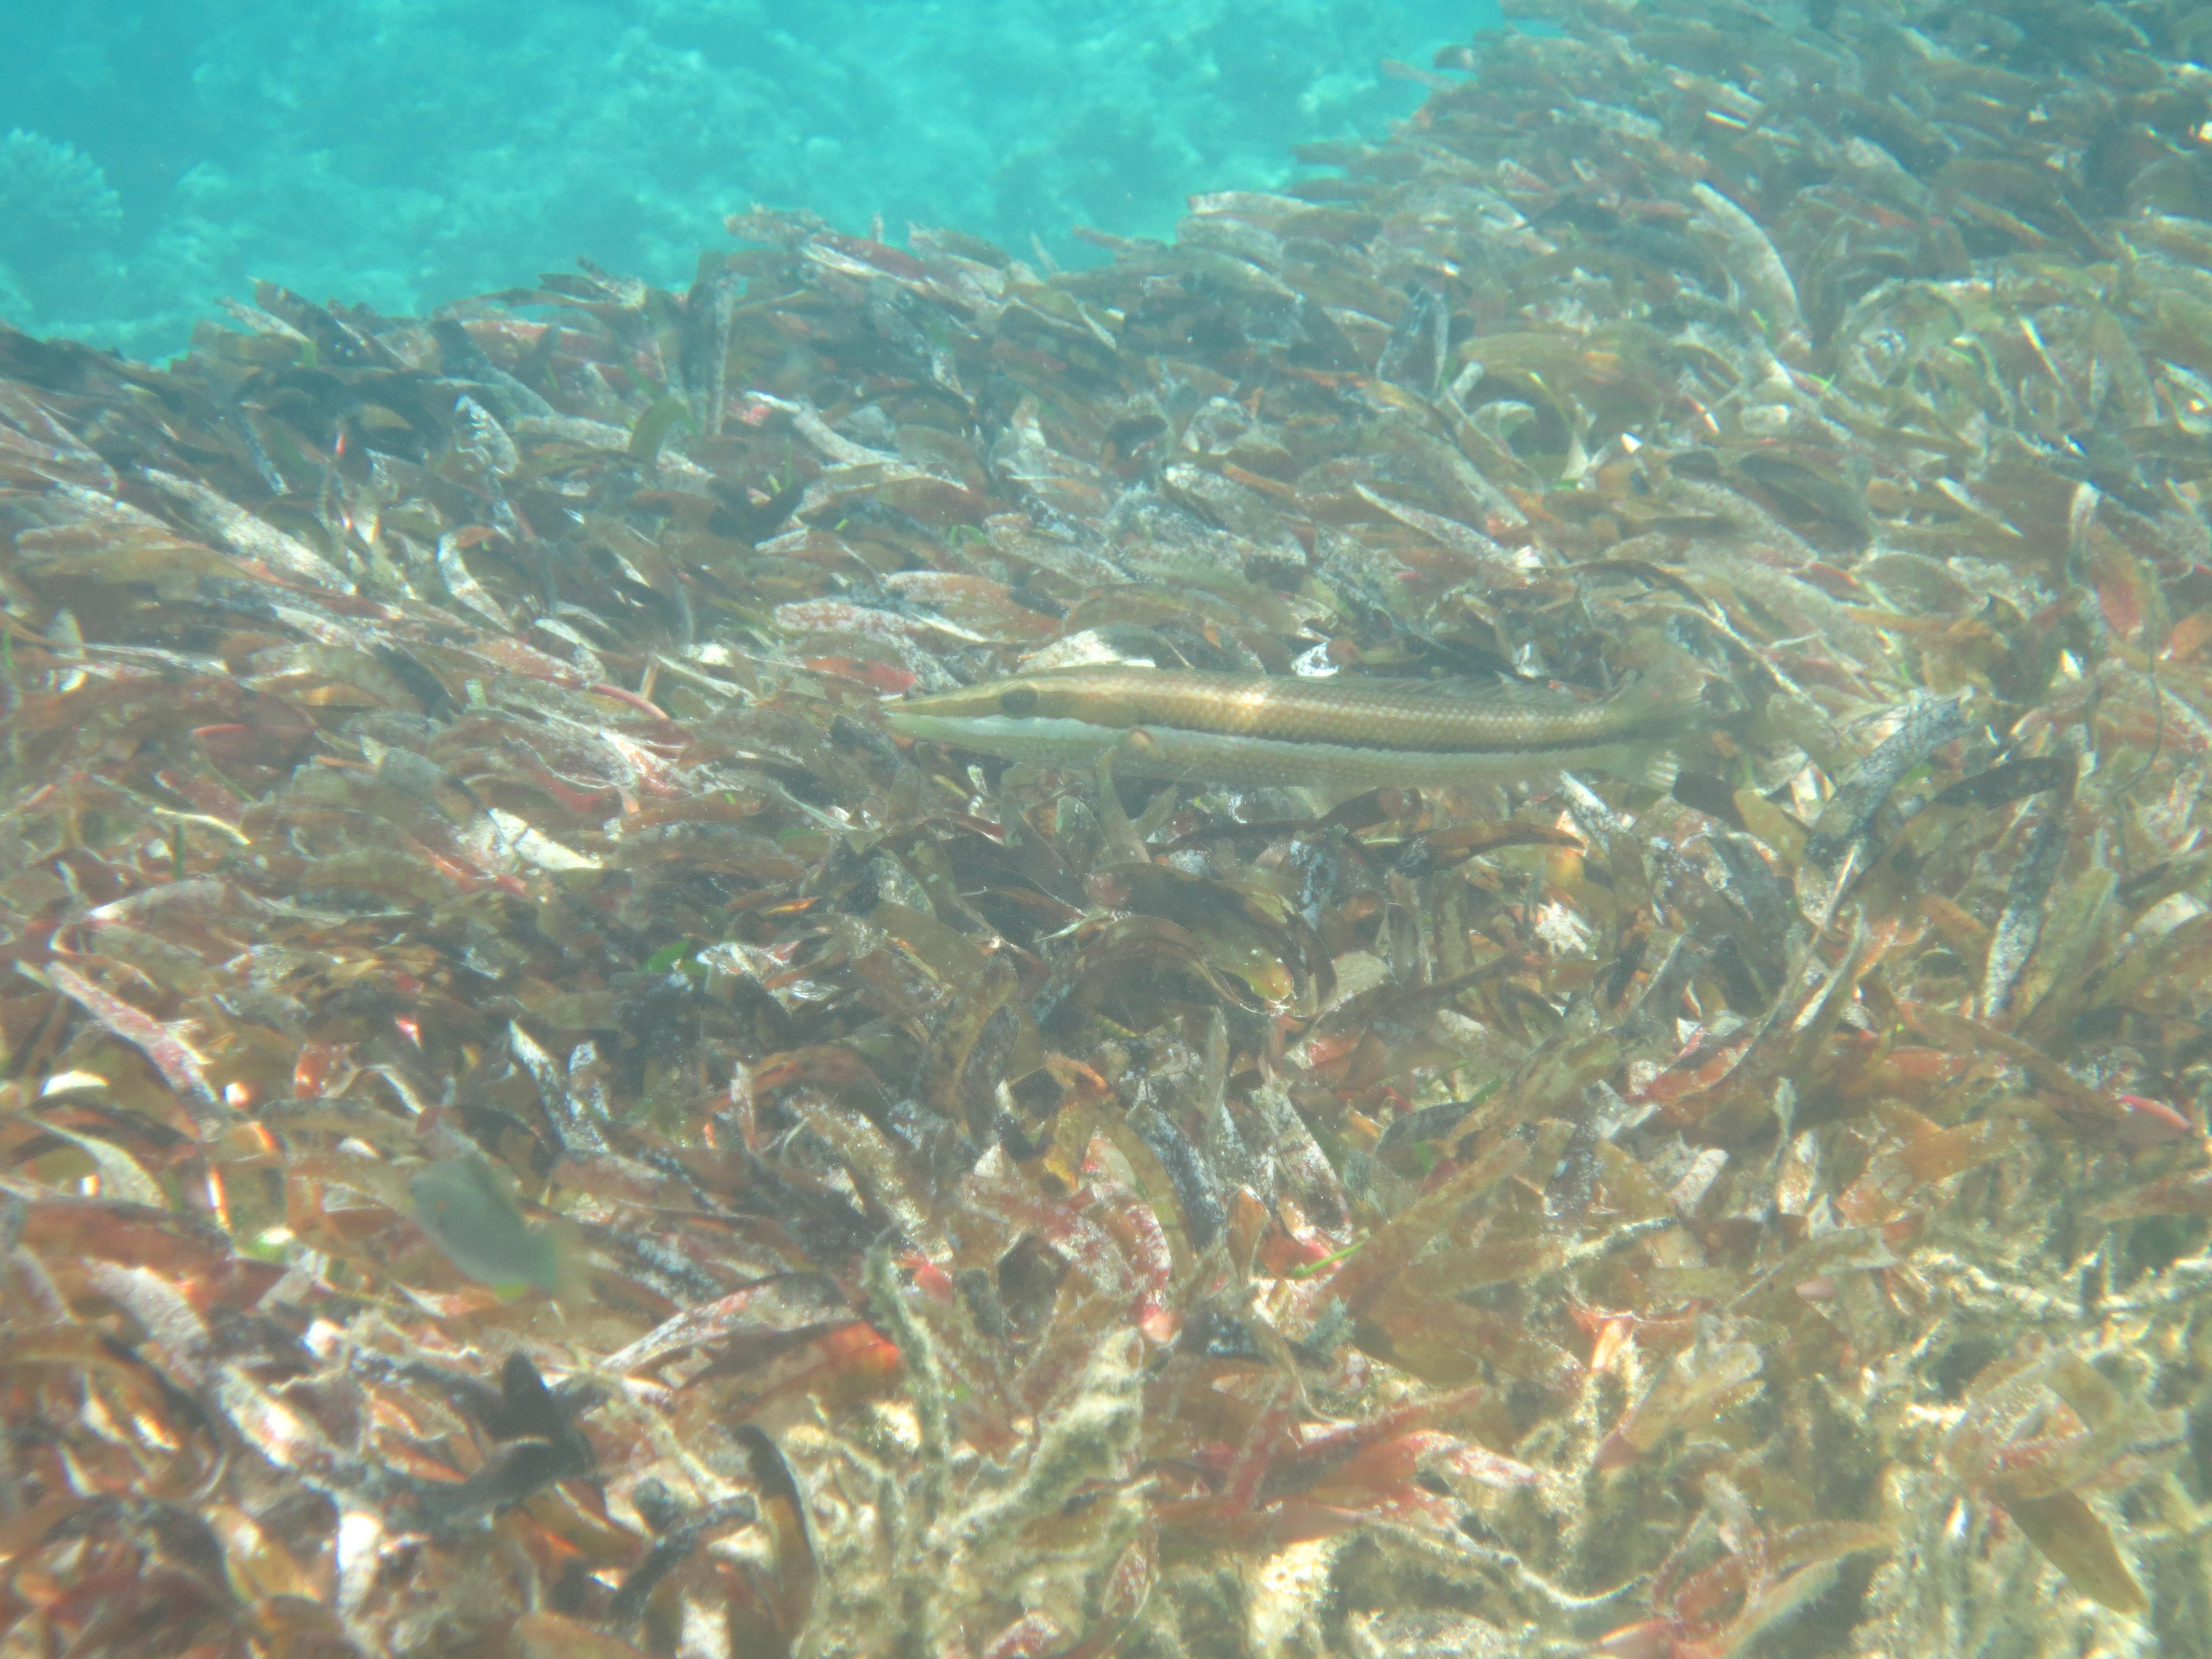Fish: (876, 634, 1712, 835)
